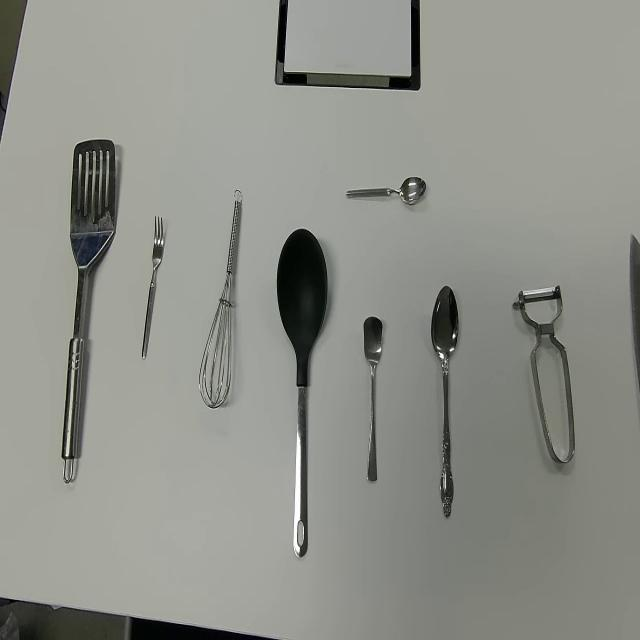Desert-Spoon: (430, 284, 459, 522)
Dinner-Fork: (141, 212, 164, 360)
Kitchen-Knife: (629, 231, 640, 394)
Peeler: (512, 282, 576, 465)
Serving-Spoon: (61, 136, 116, 485), (276, 225, 328, 559)
Tea-Spoon: (363, 314, 383, 483), (345, 174, 427, 205)
Whisk: (198, 188, 243, 410)
